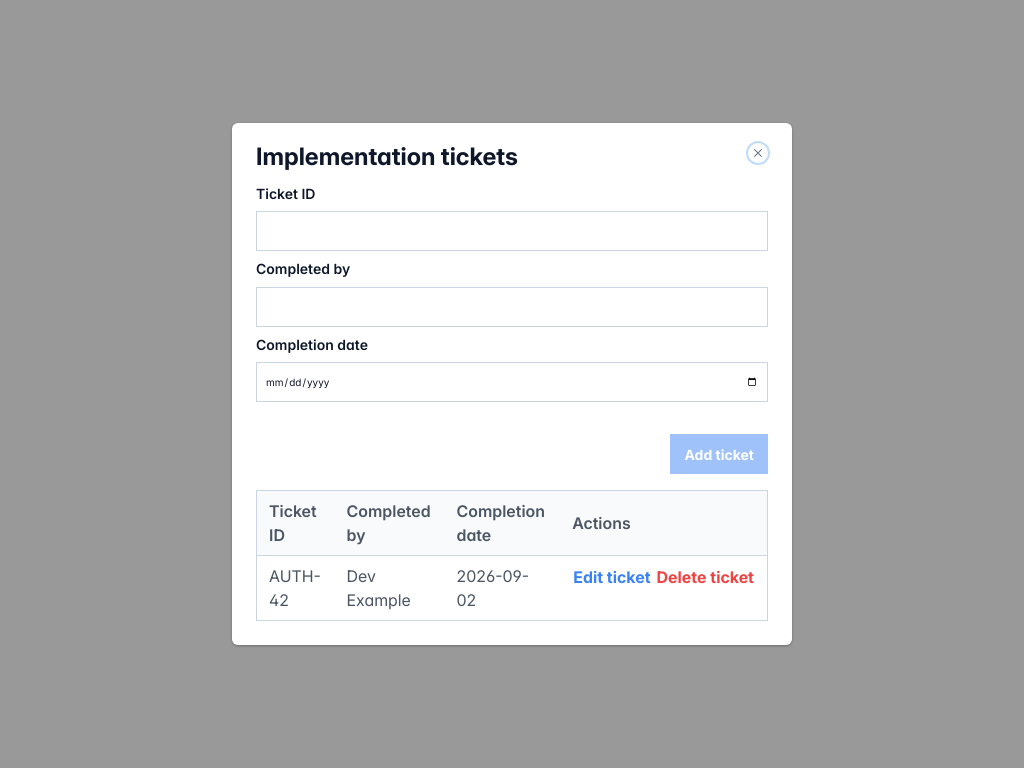
ImplementationTicketsPanel permissions › lets a Developer manage tickets on an approved requirement.
Check: the dialog is shown, box [232, 123, 792, 645]
Check: the field labelled "Completed by" is shown, box [256, 287, 768, 327]
What coordinates should you click on to do the following:
click the button "Edit ticket"
I would click on:
 (612, 577)
Its box is [572, 564, 652, 590].
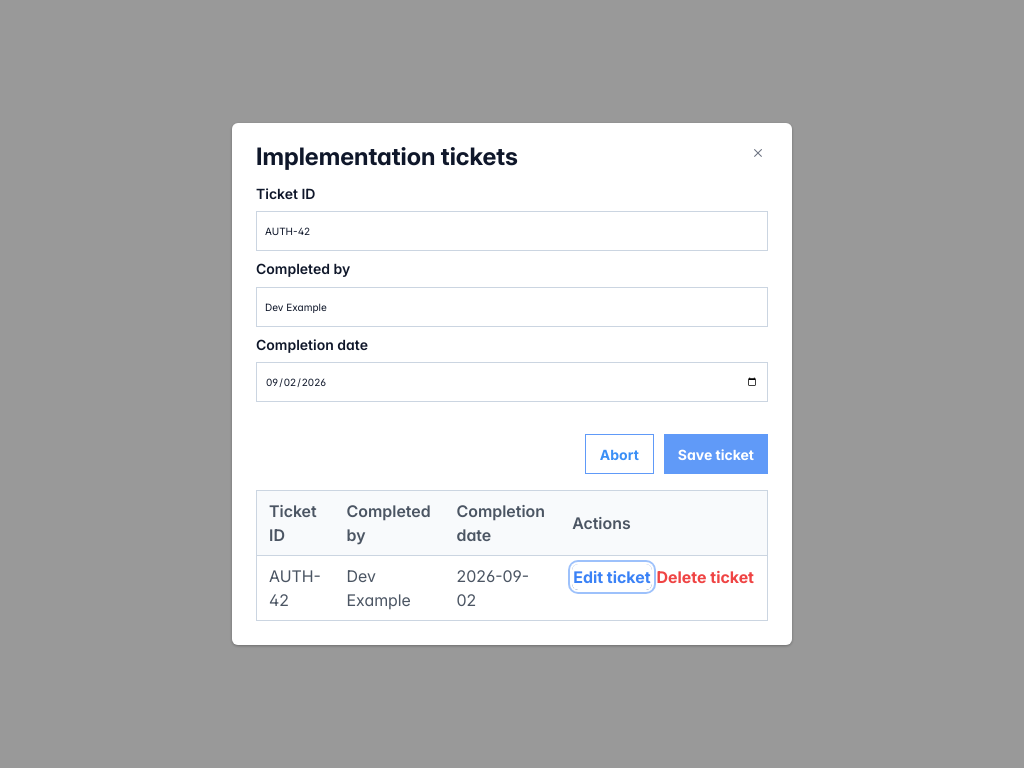
Check: the field labelled "Completed by" holds "Dev Example", box [256, 287, 768, 327]
